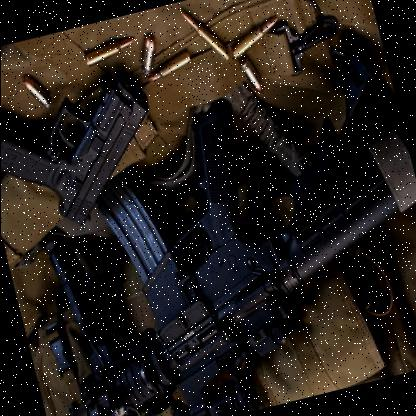rifle: (0, 56, 416, 416), (0, 51, 174, 251)
